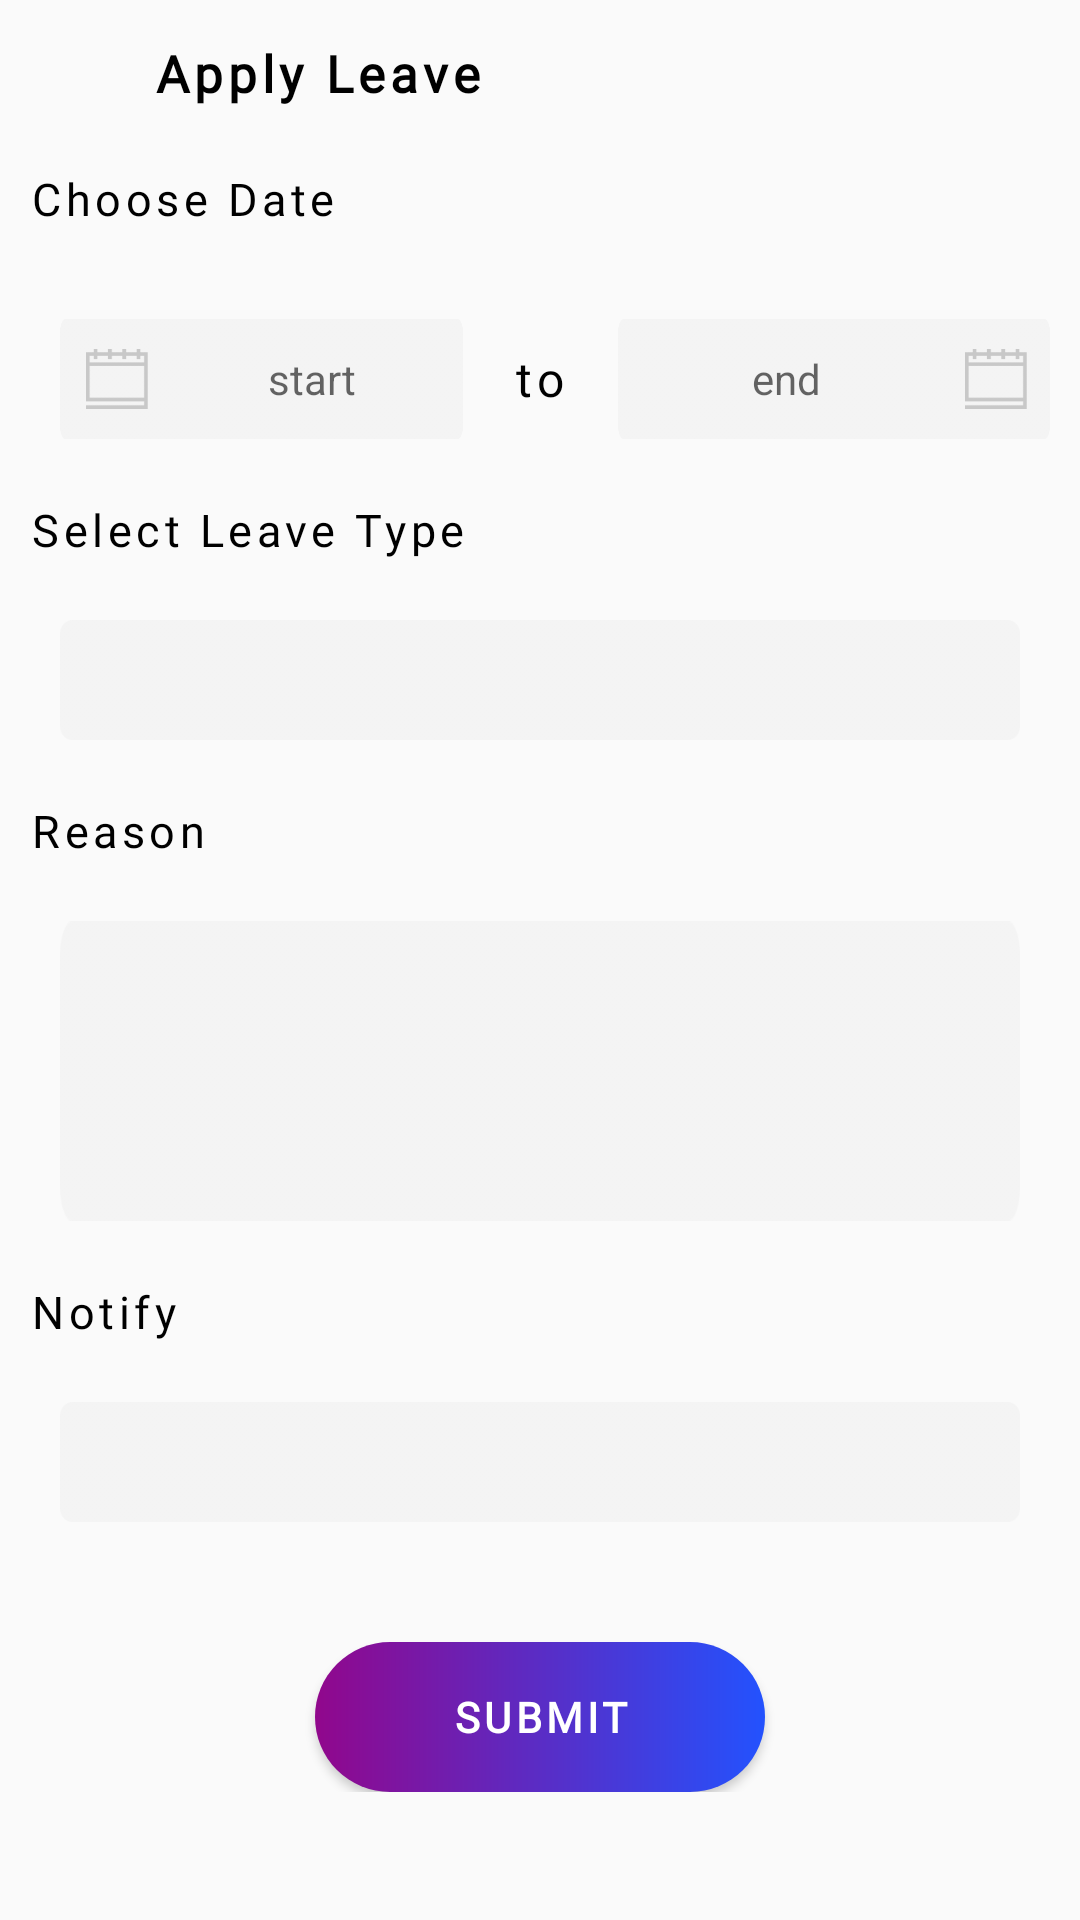

Icons on this 1080x1920 Android screen, each with its box as (x1, y1, x2, y2):
calender: (86, 349, 148, 409), (965, 349, 1027, 409)
